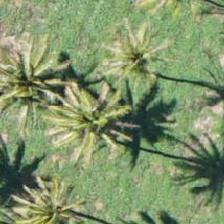coconut_tree: (49, 79, 139, 169), (92, 7, 182, 97), (0, 38, 65, 128), (13, 173, 103, 223)
